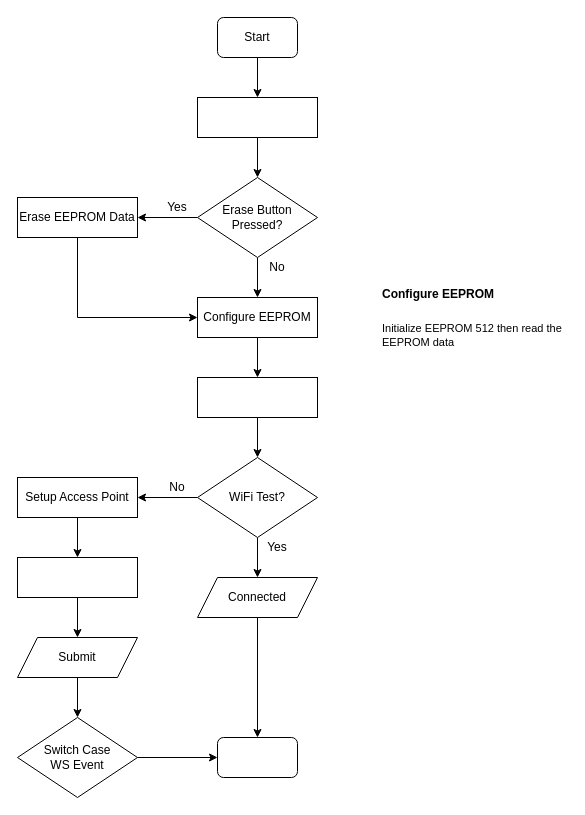
Some shapes in this 585 by 815 pixel diagram are drawn without their labels. Each missing label, with the centre of its shape:
"Countdown 4s" belongs at (257,117).
"End" belongs at (257,757).
"Get Credentials" belongs at (257,397).
"Launch WEB" belongs at (77,577).
